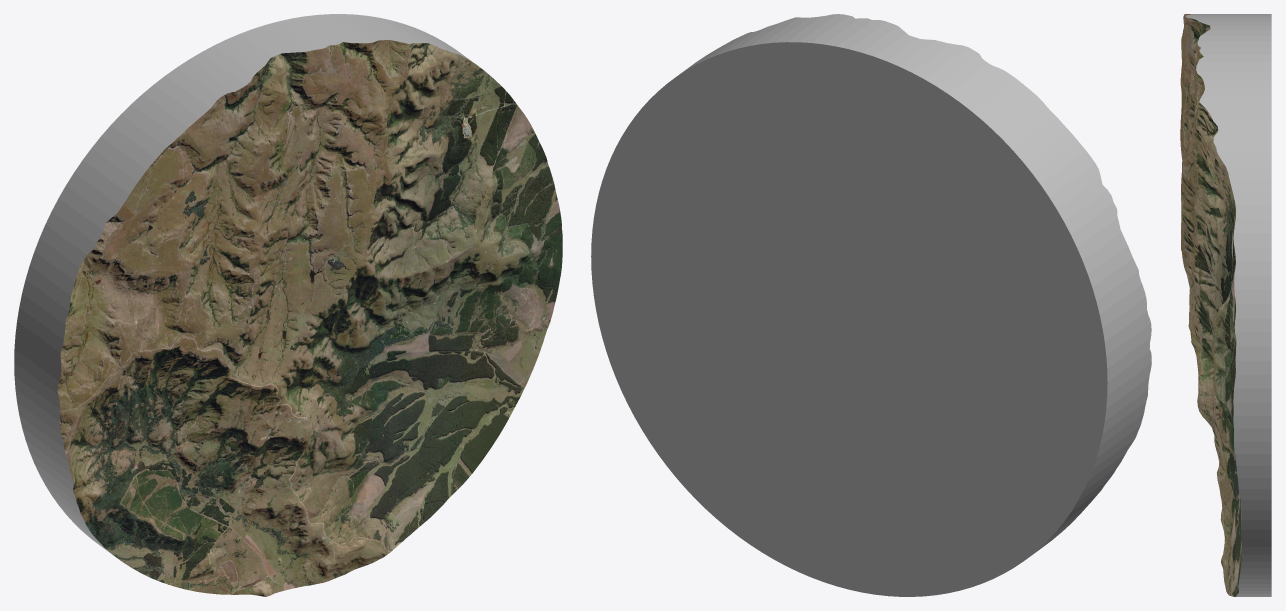
The model's file is johannesburg_ladysmith.glb.
3 views of the same model, side by side, from view 1: azimuth 30°, elevation 25°; view 2: azimuth 150°, elevation 25°; view 3: azimuth 270°, elevation 25° (orthographic). The views are drawn at different scales.
Bounding box in the file's own units: 200 × 200 × 31.38.
Materials: 2 (1 with a texture image).
